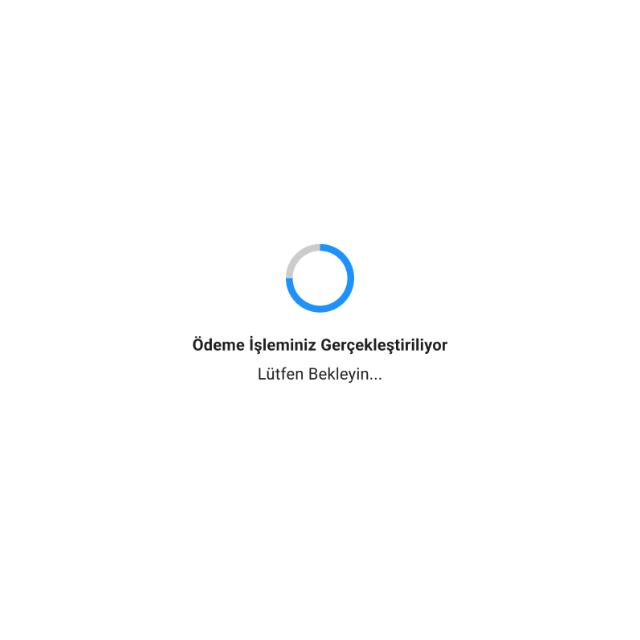QLabel: (191, 334, 449, 356), (255, 366, 382, 384)
VImg: (280, 240, 358, 316)
